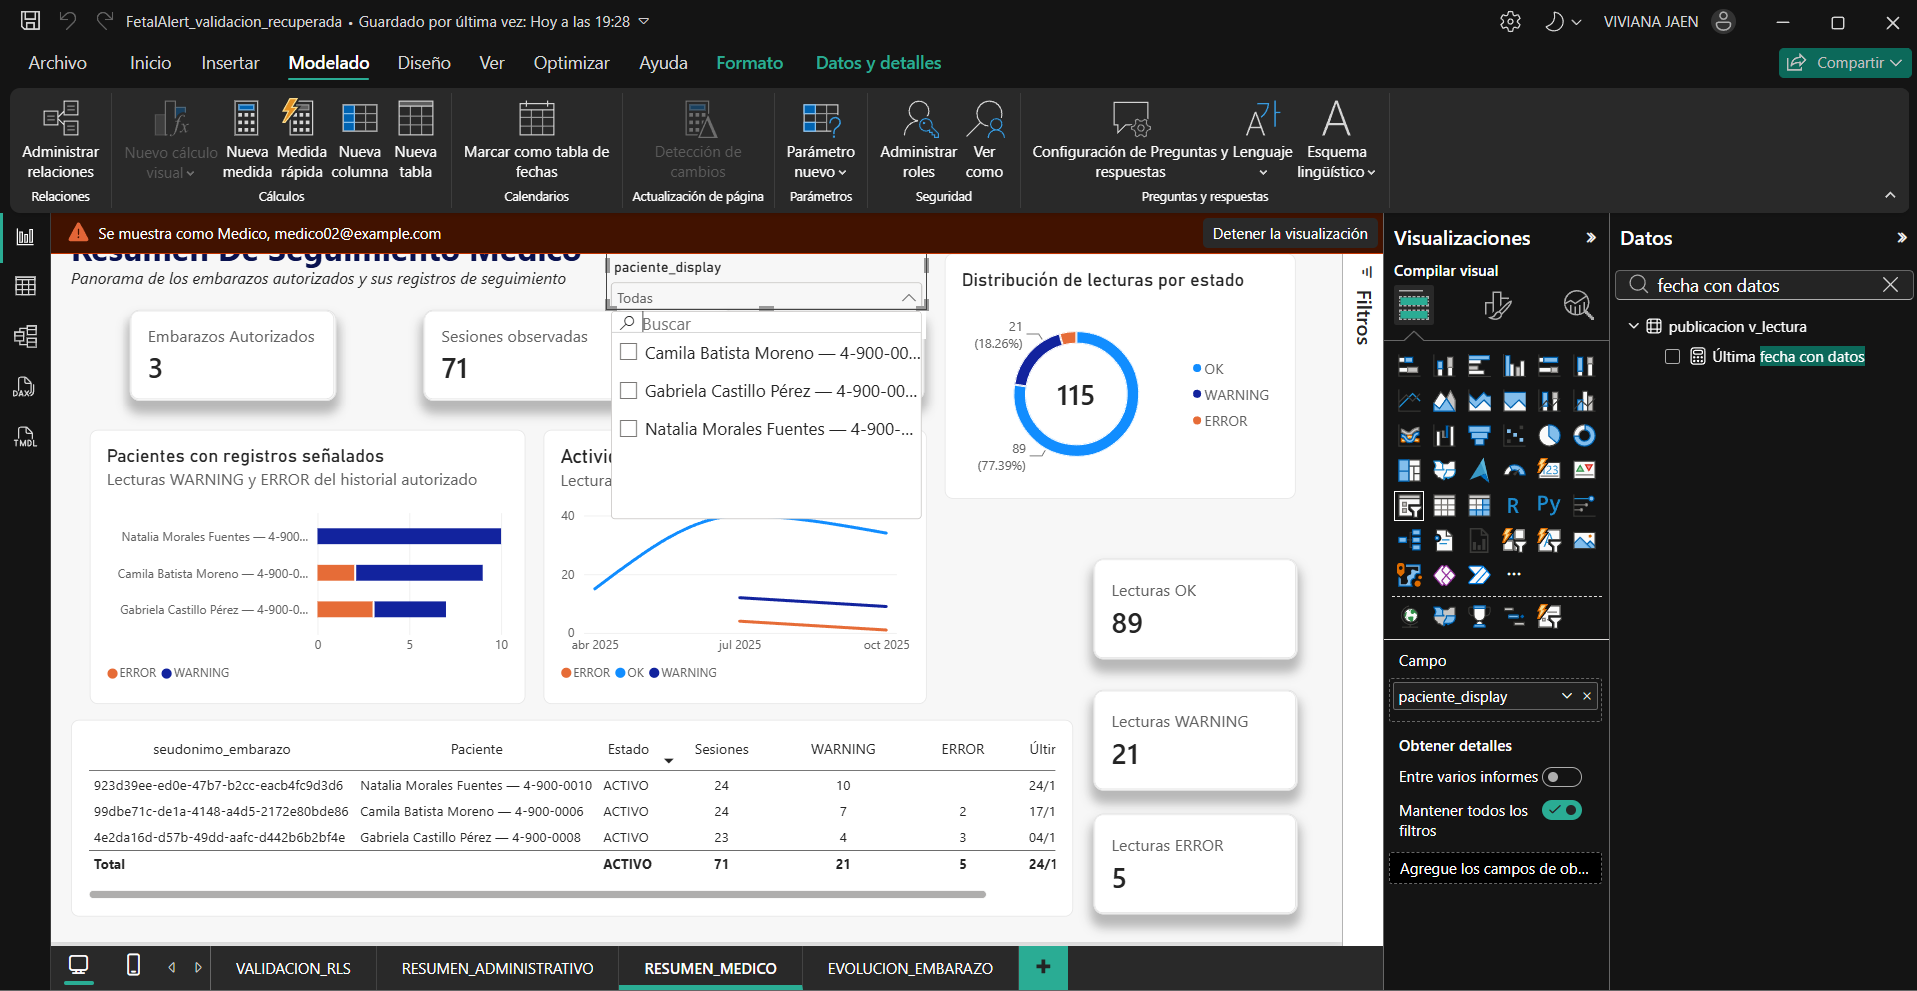

The page's visual inventory and layout, read from the dashboard file:
{"tool":"powerbi","page":{"name":"RESUMEN_MEDICO","canvas":[1280,720],"ordinal":2},"visuals":[{"type":"textbox","box":[20,10,644,54],"z":0},{"type":"textbox","box":[20,50,644,30],"z":1000},{"type":"textbox","box":[930,10,334,38],"z":2000},{"type":"cardVisual","fields":{"Data":["publicacion v_embarazo.Embarazos visibles"]},"box":[78.2,93.3,204.5,90.6],"z":3000},{"type":"cardVisual","fields":{"Data":["publicacion v_lectura.Lecturas WARNING"]},"box":[1034,470,202,100],"z":4000},{"type":"cardVisual","fields":{"Data":["publicacion v_lectura.Lecturas ERROR"]},"box":[1034,592,202,100],"z":5000},{"type":"cardVisual","fields":{"Data":["publicacion v_lectura.Sesiones observadas"]},"box":[369.1,93.3,201.7,90.6],"z":6000},{"type":"cardVisual","fields":{"Data":["publicacion v_lectura.Última fecha con datos"]},"box":[664.2,93.3,201.7,90.6],"z":7000},{"type":"cardVisual","fields":{"Data":["publicacion v_lectura.Lecturas OK"]},"box":[1034,340,202,100],"z":8000},{"type":"donutChart","title":"Distribución de lecturas por estado","fields":{"Category":["publicacion v_lectura.codigo_semaforo"],"Y":["publicacion v_lectura.Lecturas"]},"box":[886.7,36.7,348.3,243.3],"z":9000},{"type":"barChart","title":"Pacientes con registros señalados","fields":{"Category":["publicacion v_paciente_medico.paciente_display"],"Series":["publicacion v_lectura.codigo_semaforo"],"Y":["publicacion v_lectura.Lecturas"]},"box":[38,212,432,272],"z":10000},{"type":"tableEx","fields":{"Values":["publicacion v_embarazo.seudonimo_embarazo","publicacion v_paciente_medico.paciente_display","publicacion v_embarazo.estado_embarazo","publicacion v_lectura.Sesiones observadas","publicacion v_lectura.Lecturas WARNING","publicacion v_lectura.Lecturas ERROR","publicacion v_lectura.Última fecha con datos"]},"box":[20,500,993.3,195],"z":11000},{"type":"lineChart","title":"Actividad de monitoreo en el tiempo","fields":{"Category":["publicacion v_lectura.fecha_captura.Variación.Jerarquía de fechas.Año","publicacion v_lectura.fecha_captura.Variación.Jerarquía de fechas.Trimestre","publicacion v_lectura.fecha_captura.Variación.Jerarquía de fechas.Mes","publicacion v_lectura.fecha_captura.Variación.Jerarquía de fechas.Día"],"Series":["publicacion v_lectura.codigo_semaforo"],"Y":["publicacion v_lectura.Lecturas"]},"box":[488.3,211.7,380,271.7],"z":12000},{"type":"slicer","title":"Paciente","fields":{"Values":["publicacion v_paciente_medico.paciente_display"]},"box":[550.3,5.5,318.4,87.8],"z":13000}]}

Visuals, with their boxes on the page's 1280x720 design canvas (x1, y1, x2, y2). These are canvas units, not pixel positions in the 1917x991 screenshot, which may show the page scaled, cropped or inside an application window:
textbox: detection(20, 10, 664, 64)
textbox: detection(20, 50, 664, 80)
textbox: detection(930, 10, 1264, 48)
cardVisual - publicacion v_embarazo.Embarazos visibles: detection(78, 93, 283, 184)
cardVisual - publicacion v_lectura.Lecturas WARNING: detection(1034, 470, 1236, 570)
cardVisual - publicacion v_lectura.Lecturas ERROR: detection(1034, 592, 1236, 692)
cardVisual - publicacion v_lectura.Sesiones observadas: detection(369, 93, 571, 184)
cardVisual - publicacion v_lectura.Última fecha con datos: detection(664, 93, 866, 184)
cardVisual - publicacion v_lectura.Lecturas OK: detection(1034, 340, 1236, 440)
"Distribución de lecturas por estado" donutChart: detection(887, 37, 1235, 280)
"Pacientes con registros señalados" barChart: detection(38, 212, 470, 484)
tableEx - publicacion v_embarazo.seudonimo_embarazo x publicacion v_paciente_medico.paciente_display: detection(20, 500, 1013, 695)
"Actividad de monitoreo en el tiempo" lineChart: detection(488, 212, 868, 483)
"Paciente" slicer: detection(550, 6, 869, 93)
